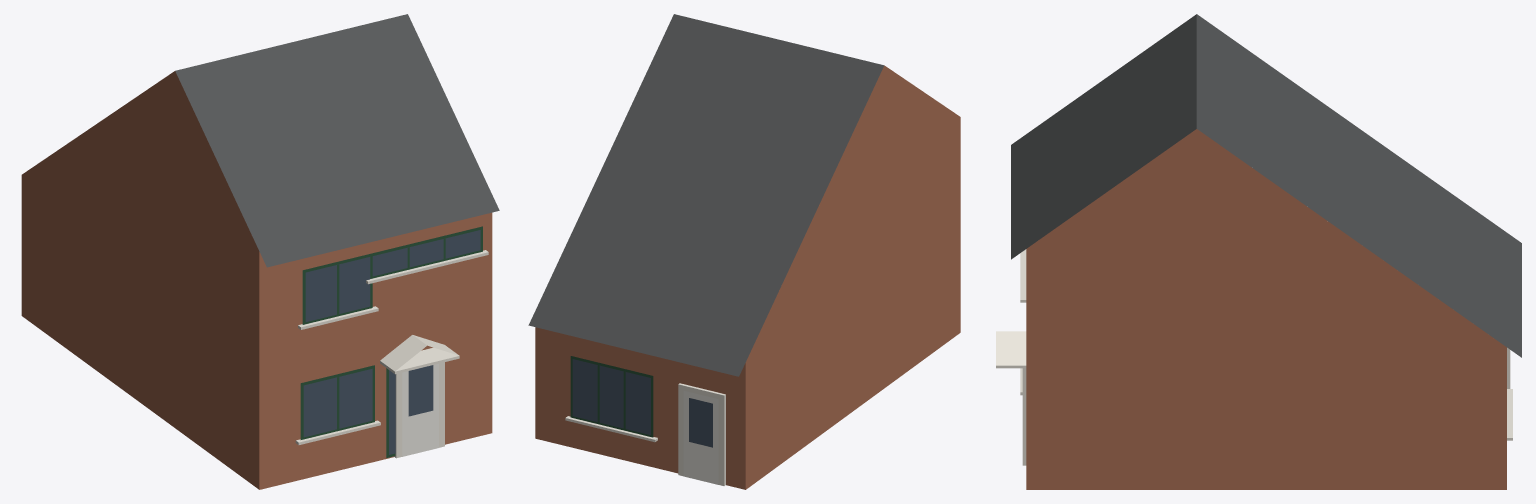
The model's file is zo-ho-hood__green-frames__2__gable__long__solid__mirror.glb.
The picture shows the model from 3 angles, left to right: view 1: azimuth 30°, elevation 25°; view 2: azimuth 150°, elevation 25°; view 3: azimuth 270°, elevation 25°; orthographic projection. The views are drawn at different scales.
Parts seen in each view (by area): view 1: zo-ho-hood__green-frames__2__gable__long__solid__mirror; view 2: zo-ho-hood__green-frames__2__gable__long__solid__mirror; view 3: zo-ho-hood__green-frames__2__gable__long__solid__mirror.
Part boxes in pixels (x1=…): zo-ho-hood__green-frames__2__gable__long__solid__mirror: x1=21, y1=14, x2=499, y2=489; zo-ho-hood__green-frames__2__gable__long__solid__mirror: x1=528, y1=14, x2=960, y2=489; zo-ho-hood__green-frames__2__gable__long__solid__mirror: x1=996, y1=14, x2=1521, y2=489.
Bounding box in the file's own units: 5.39 × 7.91 × 10.44.
